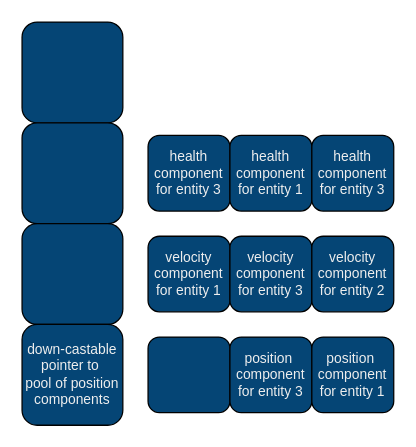
This 416x447 diagram has some shape labels left out. The centre of each missing label's shape, as x and y in pixels:
down-castable pointer to pool of health components: pixel 72 173
down-castable pointer to pool of velocity components: pixel 72 273
position component for entity 2: pixel 188 374
vector of <IPool *>: pixel 72 72
